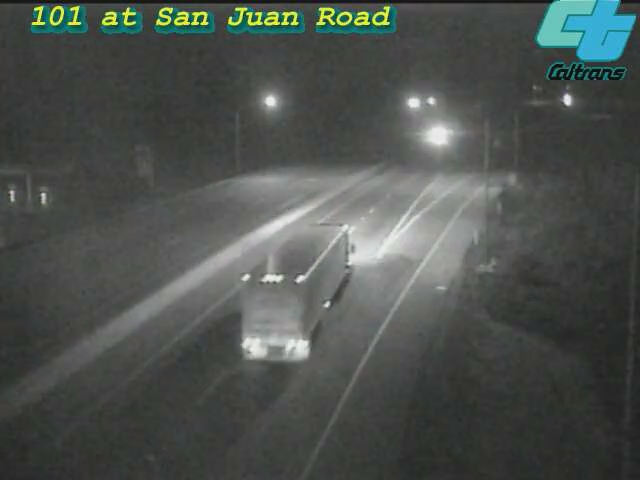vehicle: (243, 266, 323, 346), (413, 111, 463, 161)
